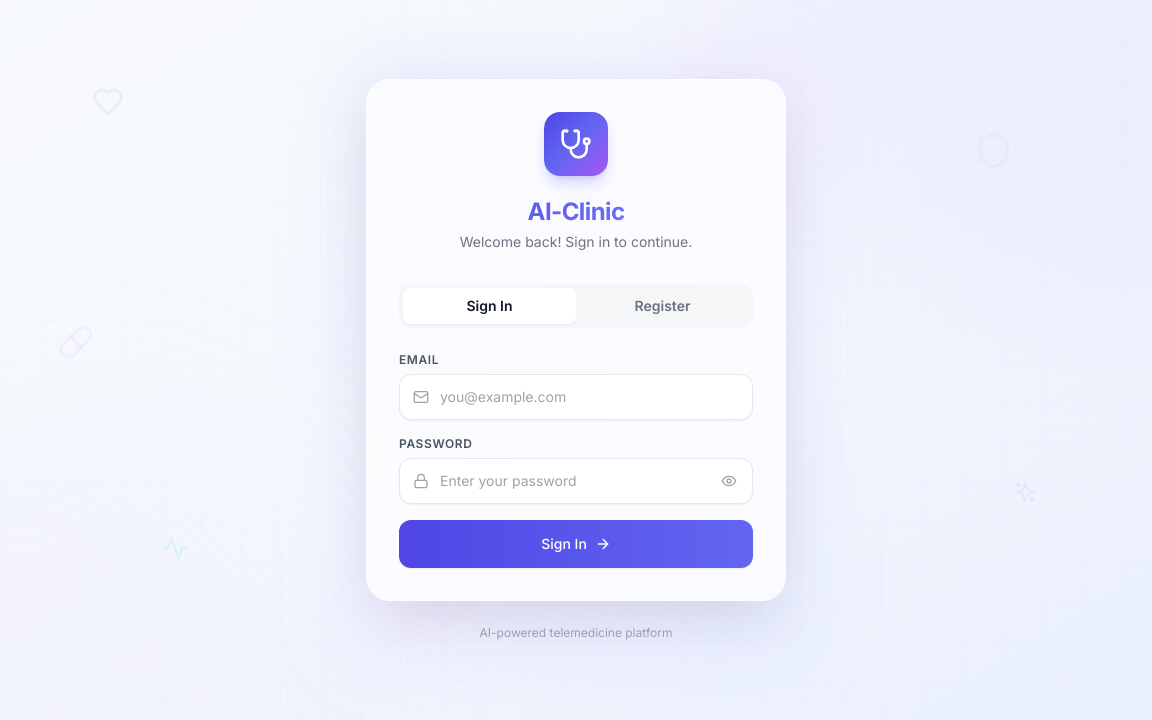
Scenario: AuthForm › Register Mode › should switch to register mode
Click the button "Register": [662, 306] box [576, 288, 749, 324]
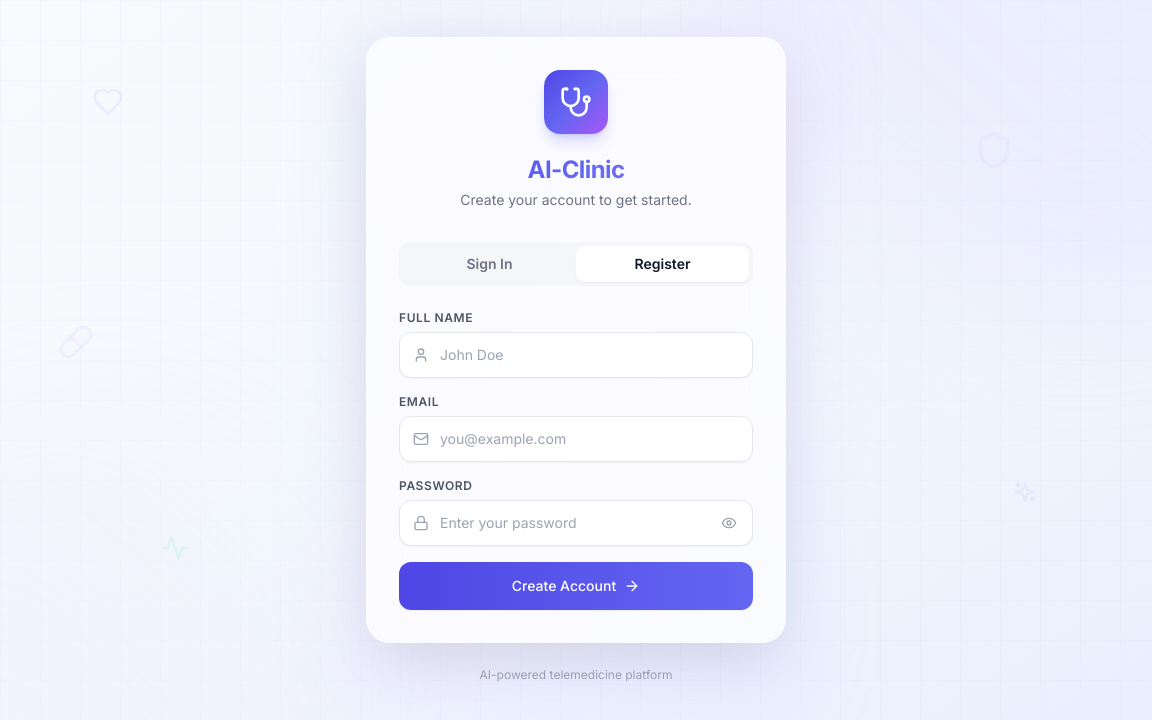
Check: the field labelled "Email" is shown, box [399, 416, 753, 462]
Check: the text "Create your account to get started." is shown, box [460, 191, 692, 208]
Check: the field labelled "Full Name" is shown, box [399, 332, 753, 378]
